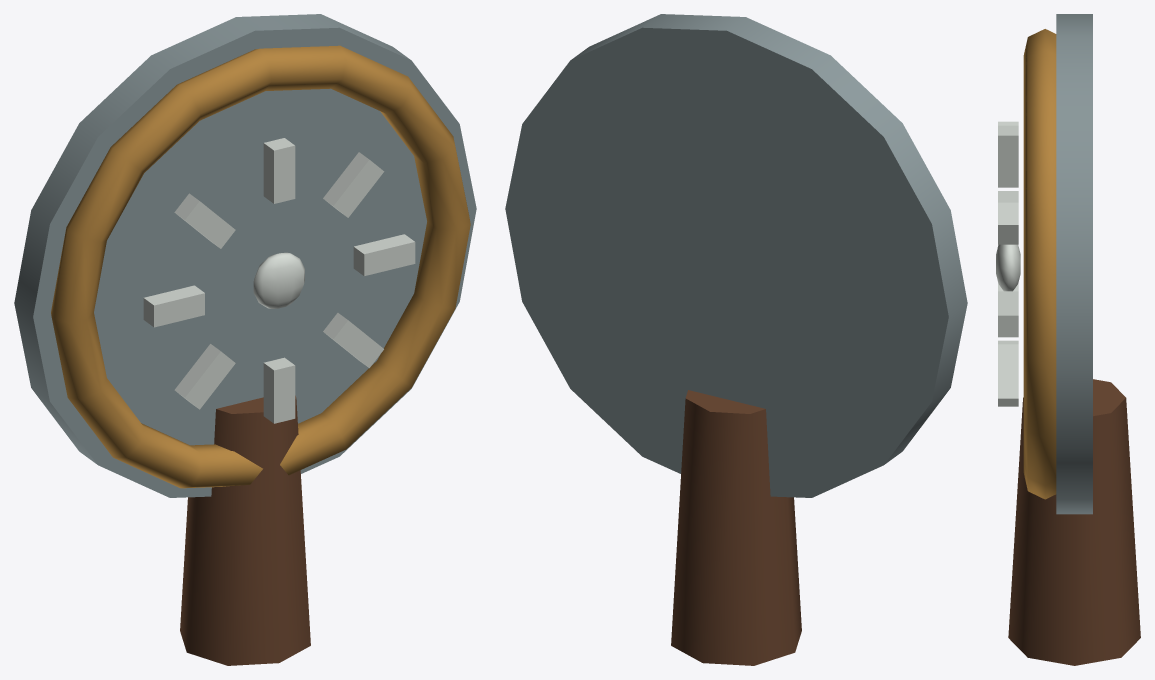
The model's file is holy-emblem.glb.
3 renders of one model, left to right at view 1: azimuth 30°, elevation 25°; view 2: azimuth 150°, elevation 25°; view 3: azimuth 270°, elevation 25°, orthographic. The views are drawn at different scales.
Parts seen in each view (by area): view 1: emblem-disc, emblem-rim, emblem-handle, emblem-mark-ray (×8), emblem-mark-center; view 2: emblem-disc, emblem-handle; view 3: emblem-handle, emblem-disc, emblem-rim, emblem-mark-ray (×5), emblem-mark-center.
Boxes of the visible parts, x1,y1,x2,y2 form: emblem-disc: (14,14,476,497); emblem-rim: (51,45,470,488); emblem-handle: (180,395,310,665); emblem-mark-ray (×8): (143,138,415,423); emblem-mark-center: (253,252,304,308); emblem-disc: (505,14,967,497); emblem-handle: (671,390,801,665); emblem-handle: (1008,379,1140,665); emblem-disc: (1056,14,1092,514); emblem-rim: (1023,29,1056,499); emblem-mark-ray (×5): (998,125,1018,406); emblem-mark-center: (996,244,1020,291).
Bounding box in the file's own units: 0.34 × 0.45 × 0.0983.
